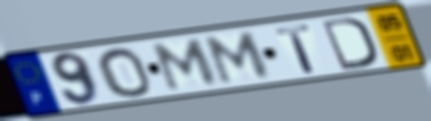9: (47, 50, 102, 108)
D: (318, 15, 379, 72)
M: (204, 29, 274, 86), (151, 36, 221, 93)
O: (94, 46, 154, 99)
T: (272, 22, 320, 75)
